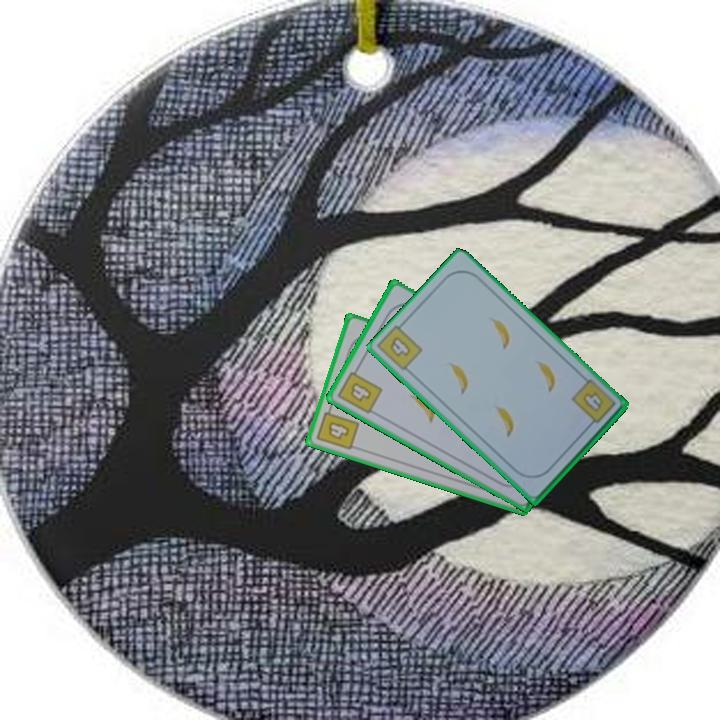4b: (334, 362, 385, 417), (568, 378, 619, 431), (313, 402, 362, 453), (386, 333, 413, 360)
